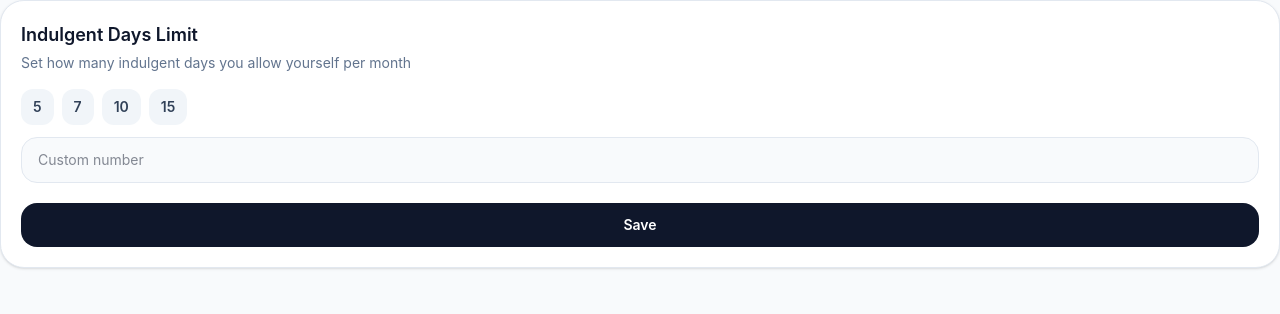
Test: saving › shows an error message when saveSettings throws
The image size is (1280, 314).
Step 1. Click the button "5" → (37, 107), box [21,89,54,125]
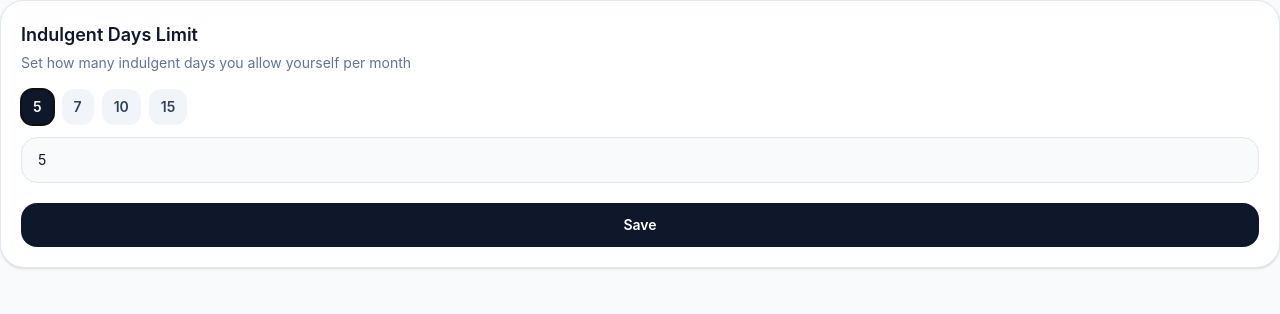
Step 2. Click the button "Save" → (640, 225), box [21,203,1259,247]
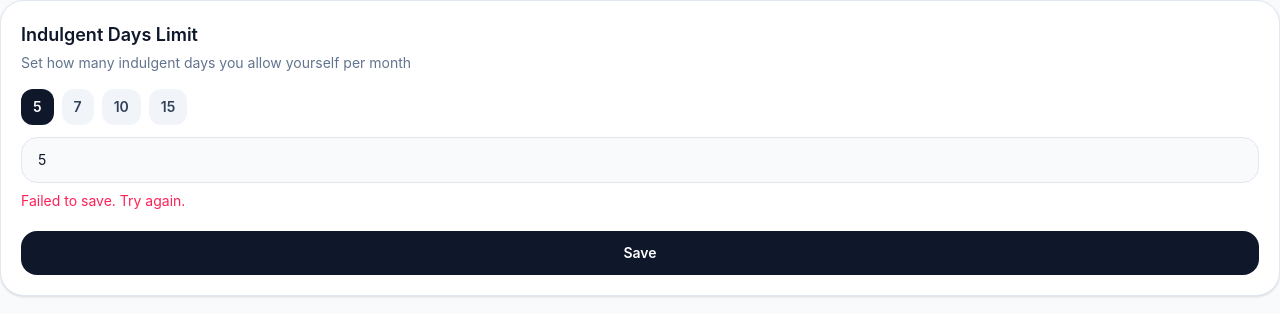
expect the text "Failed to save. Try again." is shown: met, box [21,192,185,209]
